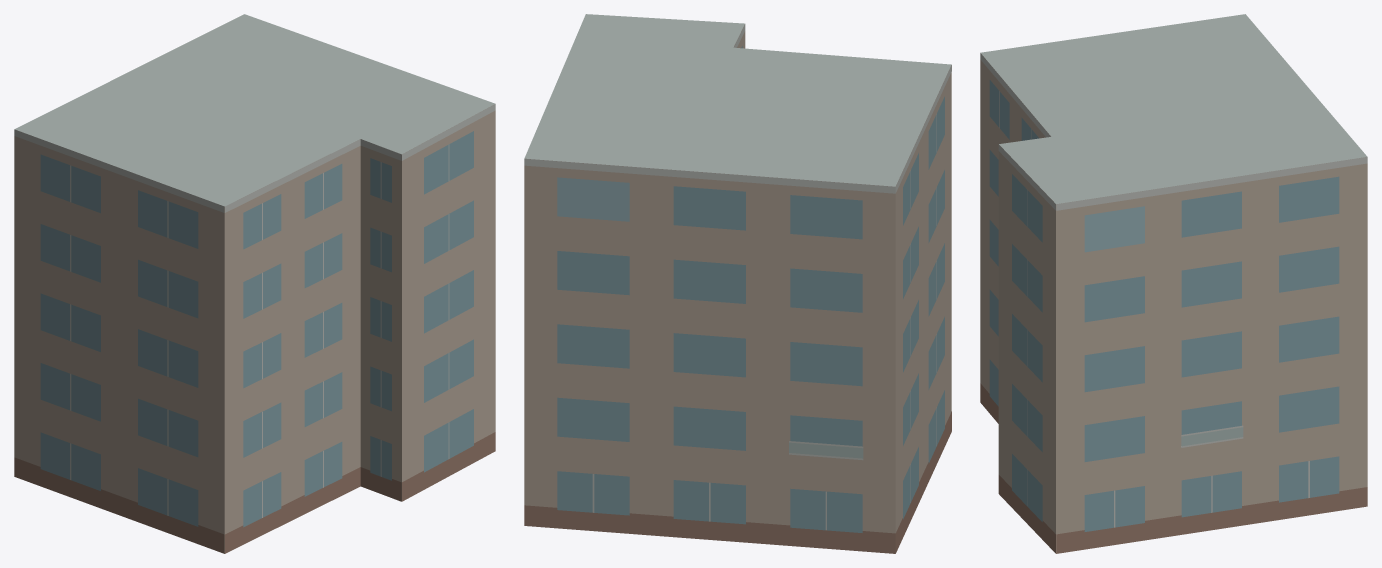
The model's file is survey-upis-32865230.glb.
The picture shows the model from 3 angles, left to right: view 1: azimuth 30°, elevation 25°; view 2: azimuth 150°, elevation 25°; view 3: azimuth 270°, elevation 25°; orthographic projection. The views are drawn at different scales.
Parts seen in each view (by area): view 1: survey-upis-32865230.tmp; view 2: survey-upis-32865230.tmp; view 3: survey-upis-32865230.tmp.
Part boxes in pixels (<box>): survey-upis-32865230.tmp: <box>14,14,495,553</box>; survey-upis-32865230.tmp: <box>524,14,951,553</box>; survey-upis-32865230.tmp: <box>980,14,1367,553</box>.
Size of the model in its own units: 14.94 by 12.8 by 12.86.
